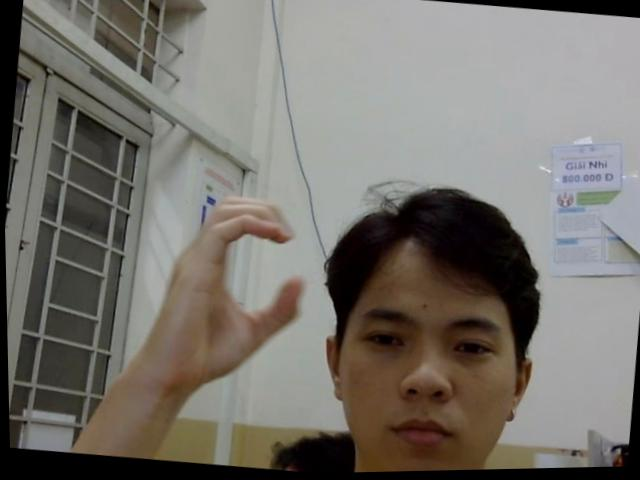C: (139, 185, 316, 397)
